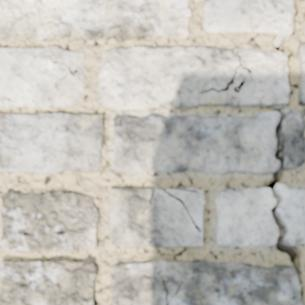brick: (97, 47, 288, 109), (111, 260, 301, 304), (0, 0, 190, 39), (0, 113, 103, 173), (1, 191, 98, 251), (110, 189, 202, 246), (0, 47, 84, 108), (0, 259, 96, 304), (203, 0, 293, 32), (168, 189, 205, 232), (298, 44, 304, 105)
broken_brick: (113, 110, 279, 174), (214, 187, 276, 248), (277, 183, 304, 245), (283, 108, 304, 169)
crack: (265, 0, 304, 304), (197, 48, 253, 94), (29, 48, 79, 91), (162, 188, 201, 233), (157, 268, 183, 304), (140, 188, 154, 214), (171, 187, 199, 193), (182, 6, 189, 10)
